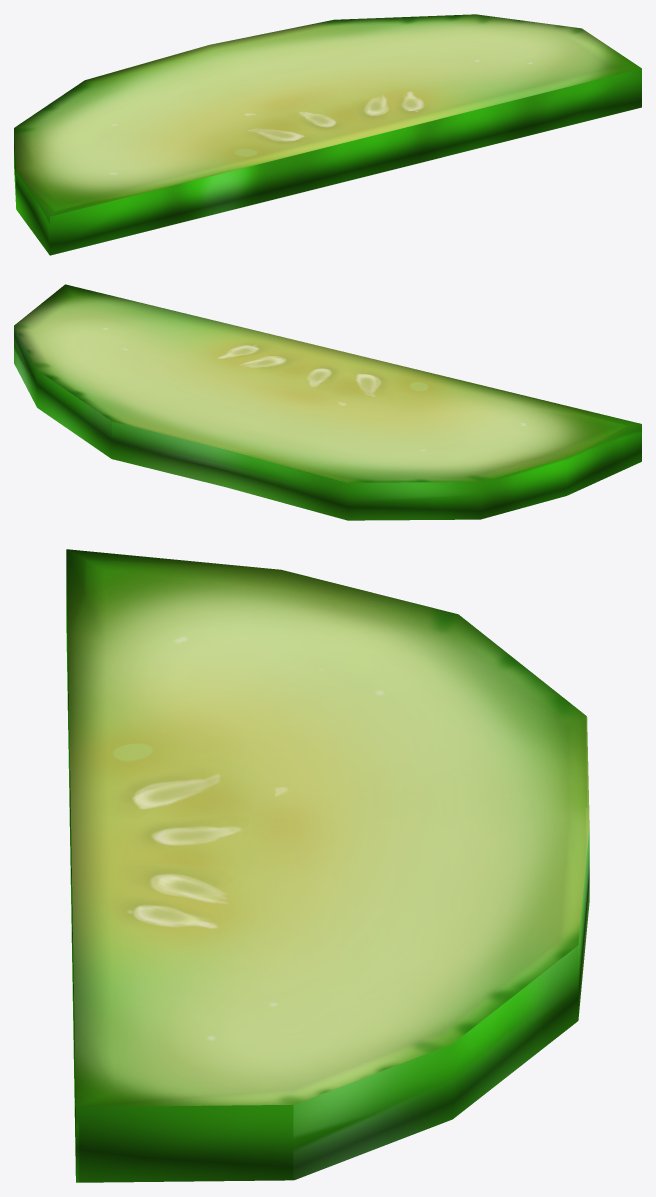
Rendered from zuccini.fbx.
The picture shows the model from 3 angles, top to bottom: view 1: azimuth 30°, elevation 25°; view 2: azimuth 150°, elevation 25°; view 3: azimuth 270°, elevation 25°; orthographic projection. The views are drawn at different scales.
Visible parts, largest first — view 1: zuccini_single; view 2: zuccini_single; view 3: zuccini_single.
Part boxes in pixels (x1=…): zuccini_single: x1=14, y1=14, x2=641, y2=255; zuccini_single: x1=14, y1=284, x2=641, y2=520; zuccini_single: x1=66, y1=549, x2=589, y2=1182.
Bounding box in the file's own units: 22.16 × 1.57 × 8.74.
